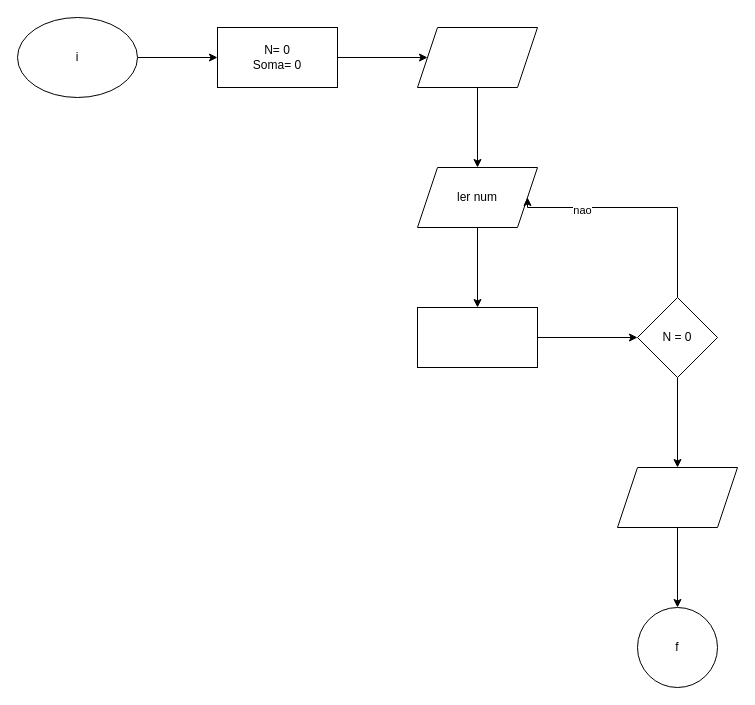
Some shapes in this 755 by 705 pixel diagram are drawn without their labels. Here are the shapes that lost their labels. From the top down, the box of each, then its label:
(416, 26, 538, 88): ler N
(416, 306, 538, 368): soma = soma + num N = N-1
(616, 466, 738, 528): escrever soma
